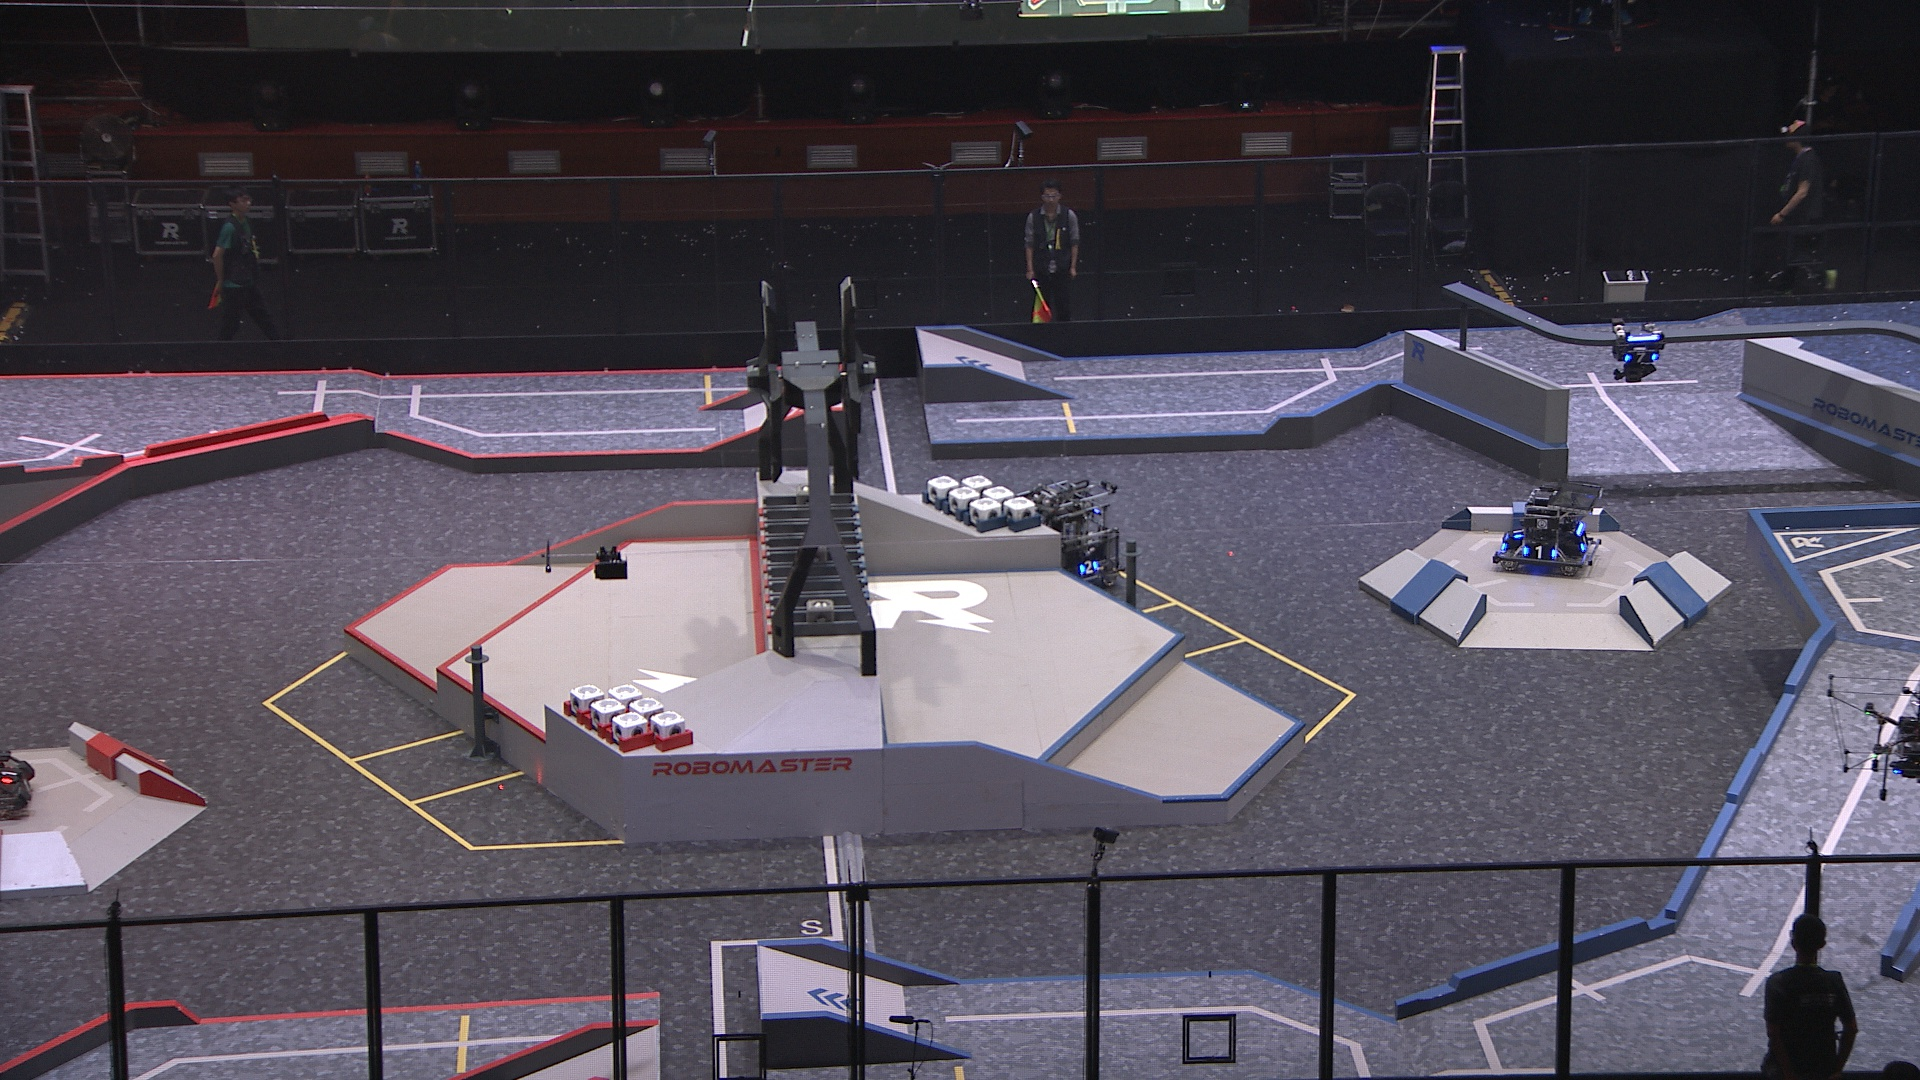armor: (1520, 545, 1557, 560), (1623, 352, 1662, 365), (0, 766, 21, 785), (1077, 560, 1100, 578), (1510, 527, 1527, 542), (1577, 535, 1589, 553)
car: (1015, 473, 1124, 589), (1490, 484, 1609, 578)
watcher: (1605, 319, 1665, 385)
